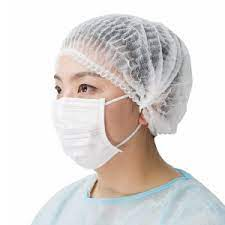with_mask_and_cap: (55, 13, 163, 167)
